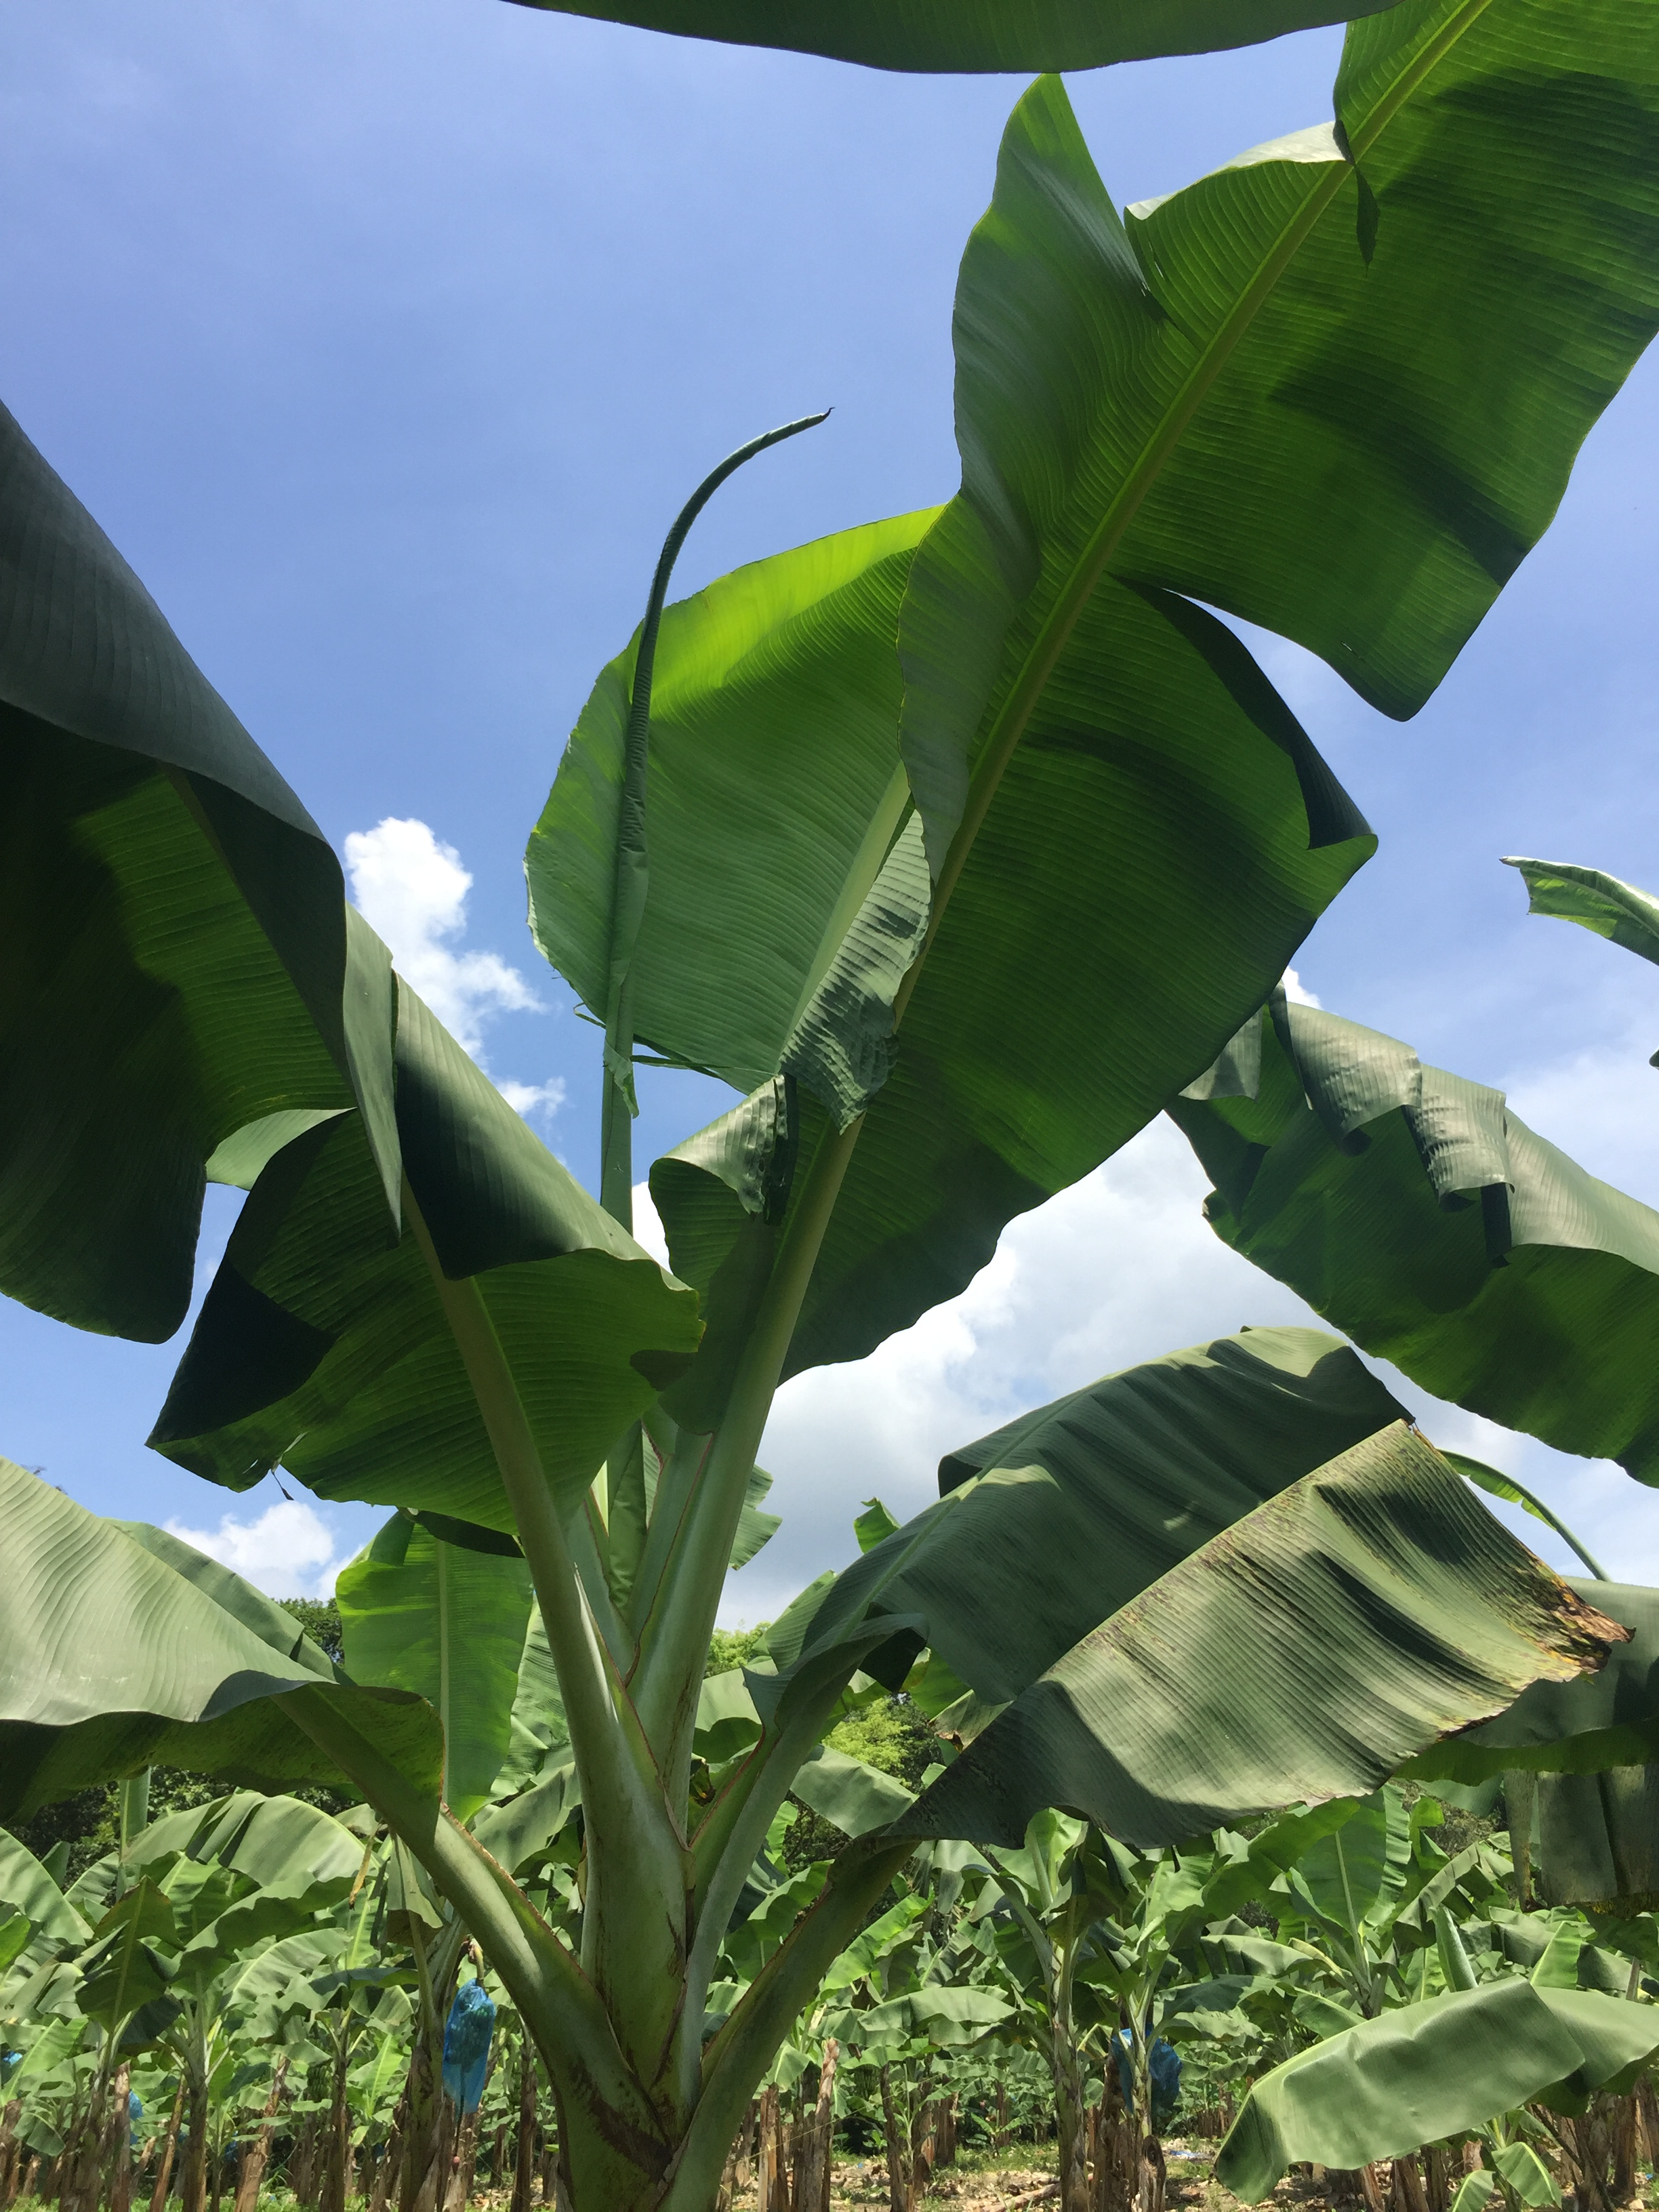candleleafs: (601, 406, 836, 1240)
